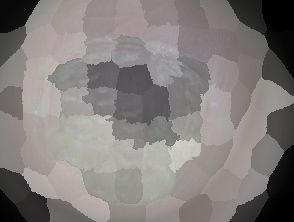Nail_psoriasis: (2, 1, 231, 222)
